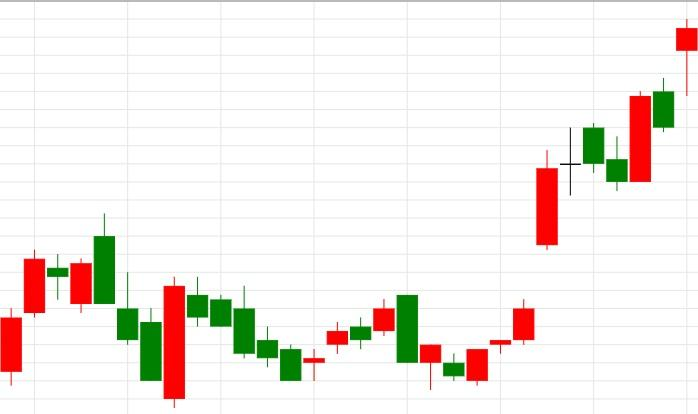bearish_engulfing_fall: (279, 295, 419, 381)
bullish_engulfing_rise: (93, 213, 186, 407)
hanging_man_fall: (466, 19, 698, 386)
